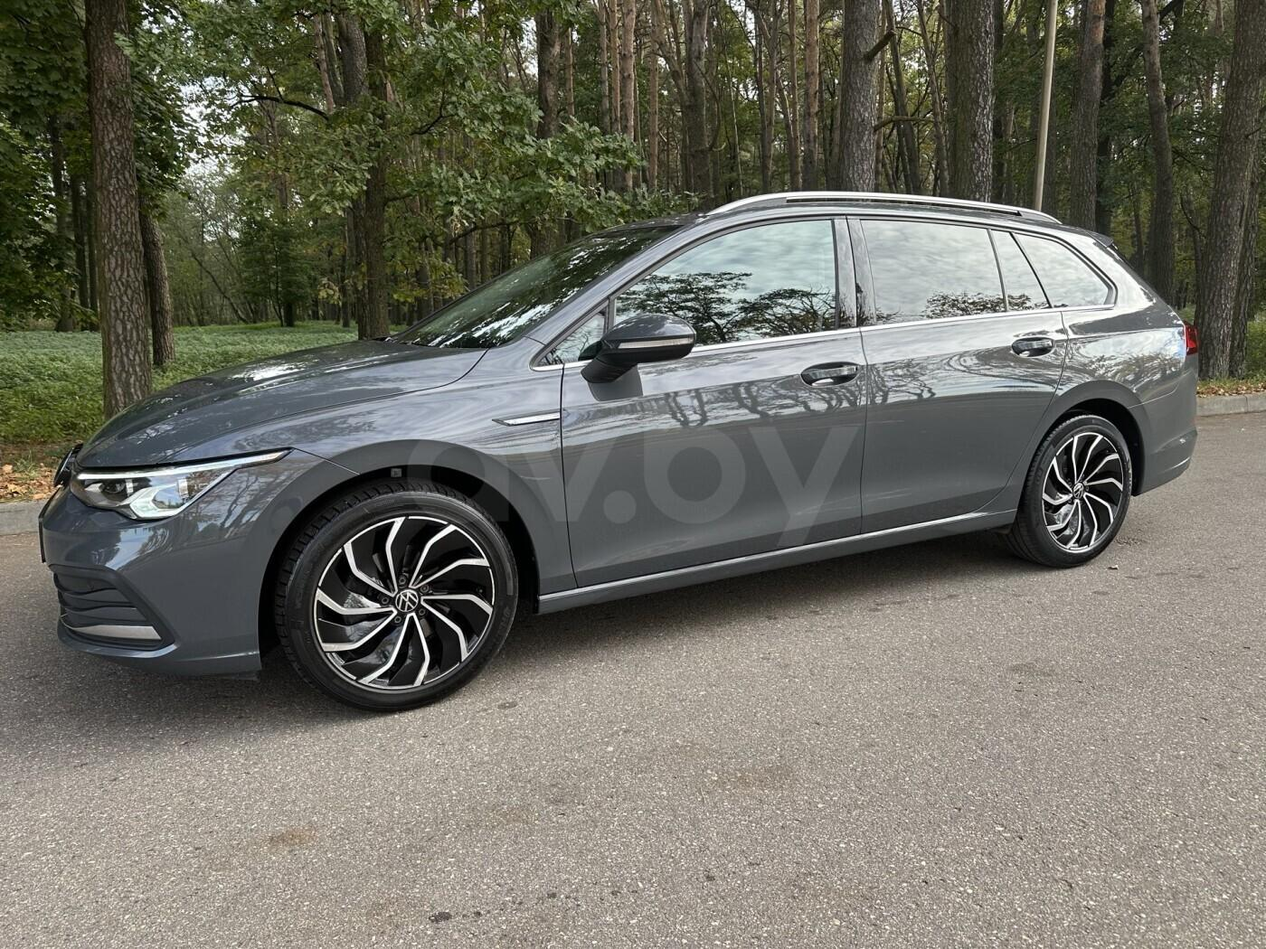Golf_2019: (43, 196, 1199, 710)
